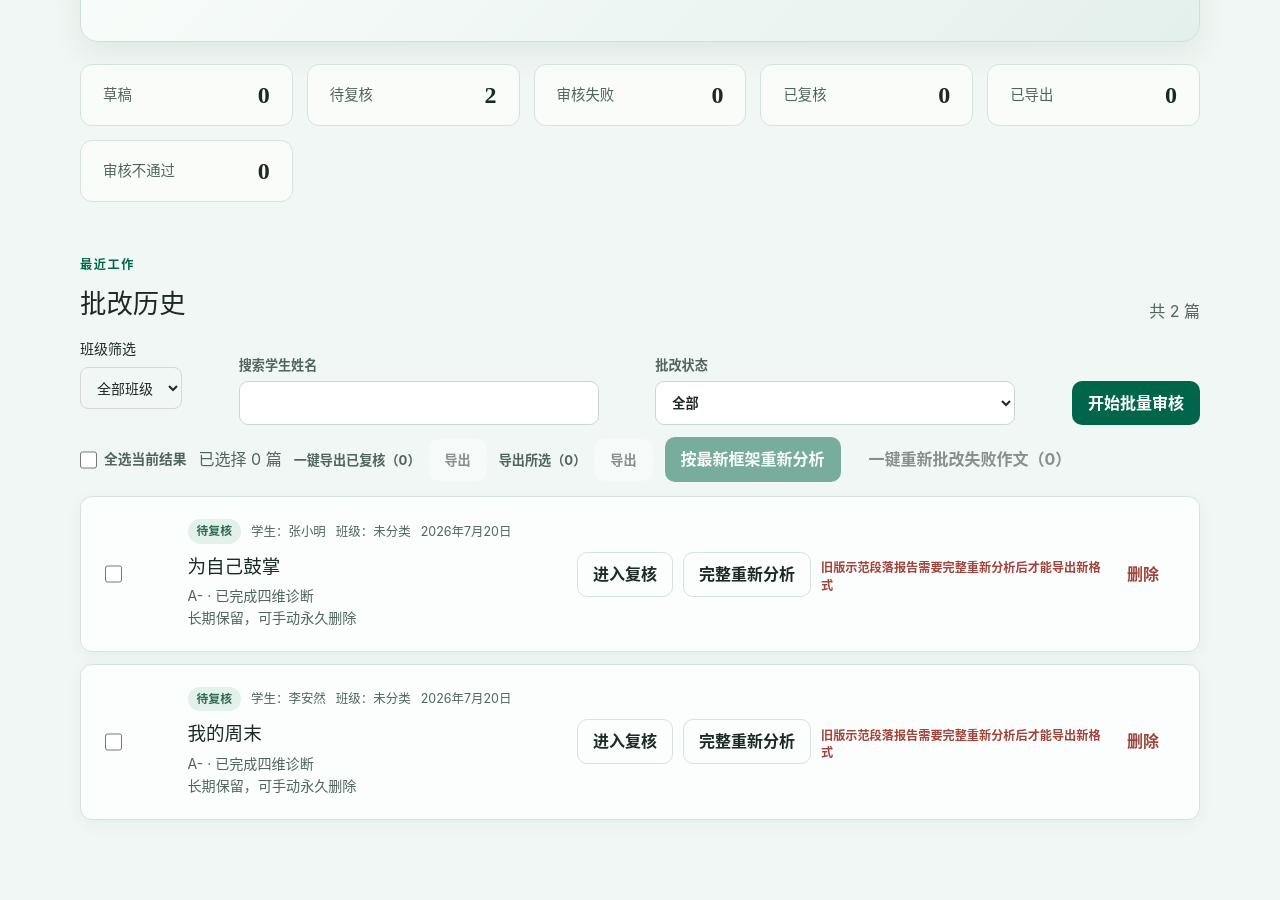
Test case: 历史首页 › 预览并按最新框架重新分析，成功项移除选择而跳过项保留
(page scrolled)
expect the heading "为自己鼓掌" is shown: met, box 188,555 -> 280,577
Click the checkbox named "选择《为自己鼓掌》" at [114, 574], box 105,552 -> 122,596
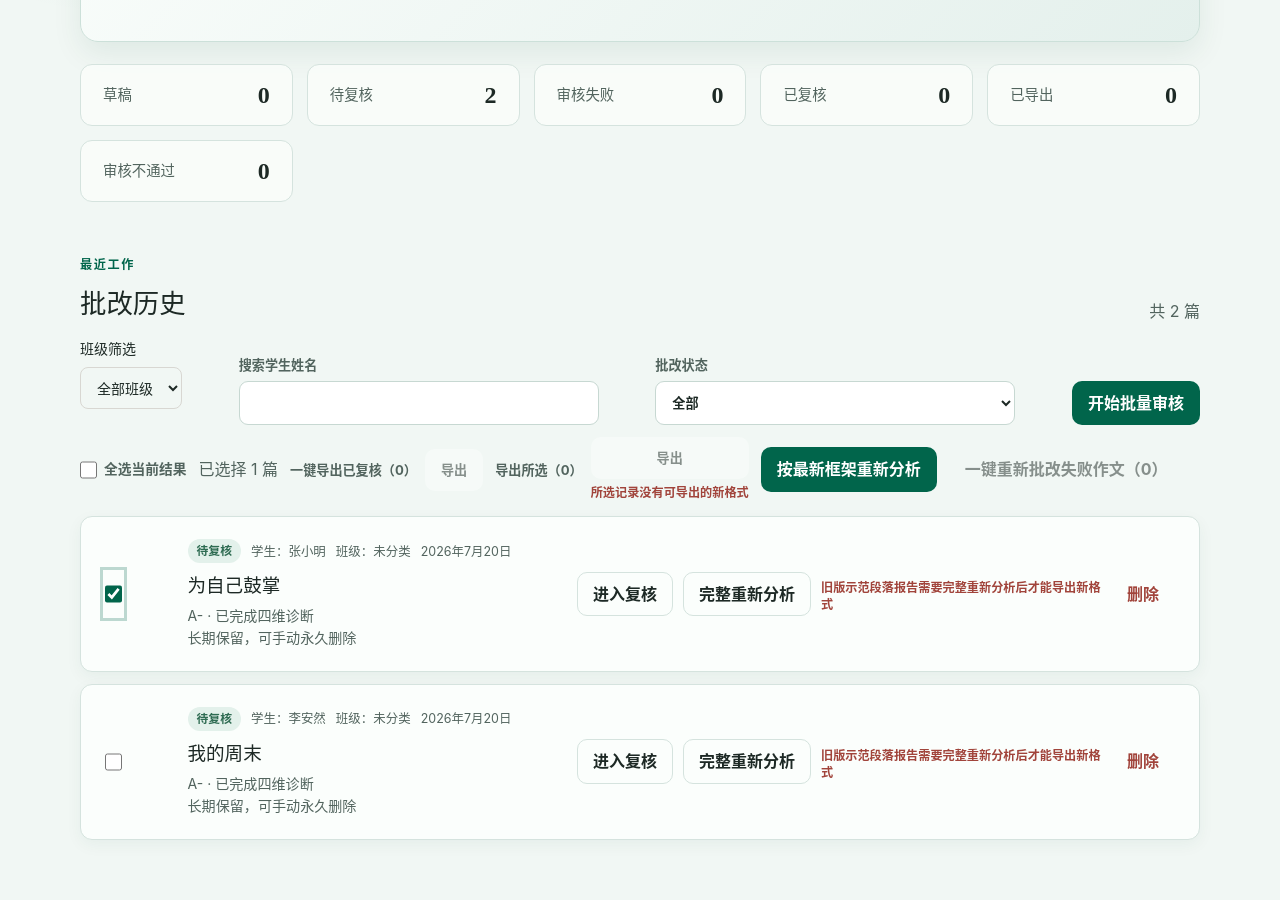
Click the checkbox named "选择《我的周末》" at [114, 762], box 105,740 -> 122,784
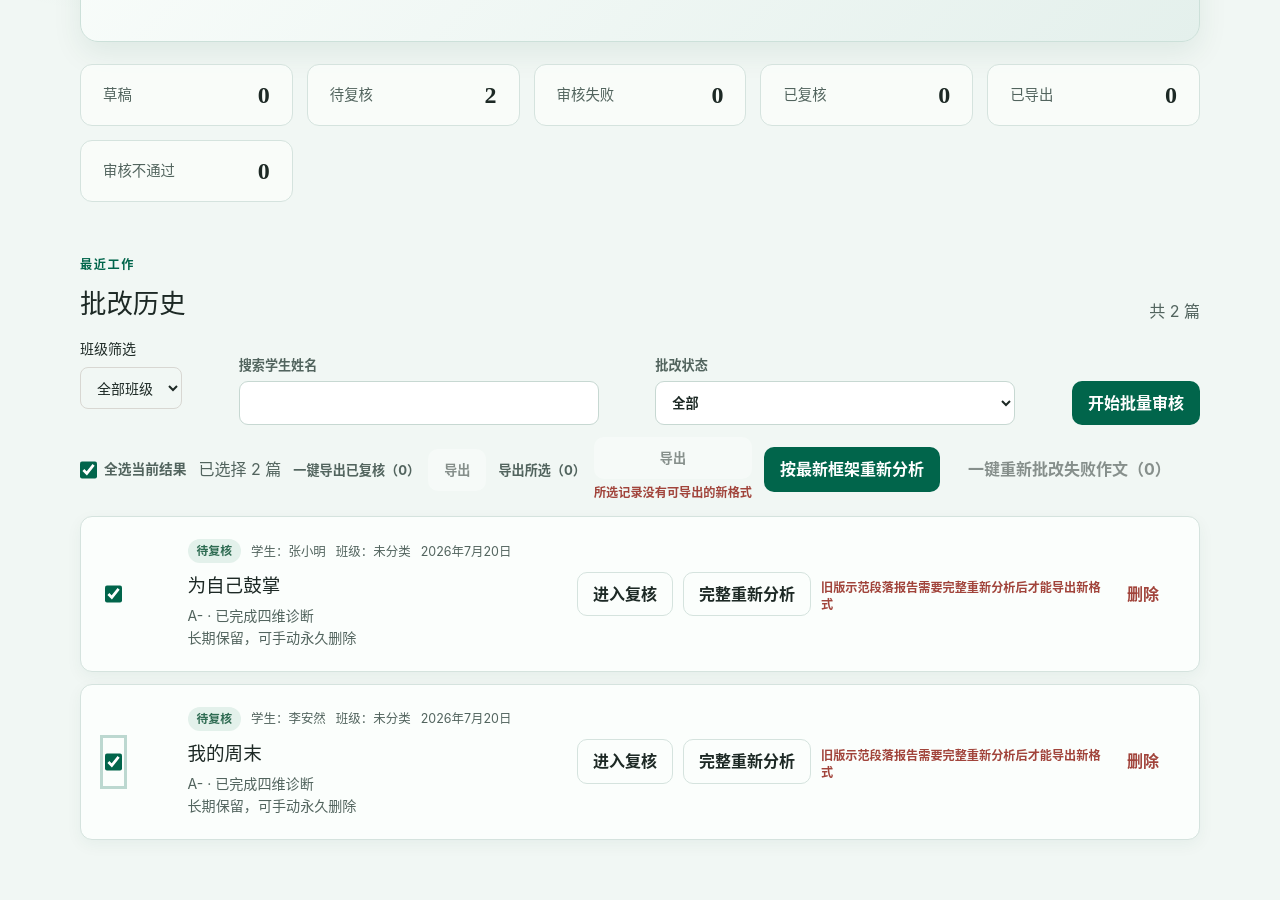
Click the button "按最新框架重新分析" at [852, 470], box 764,447 -> 940,492
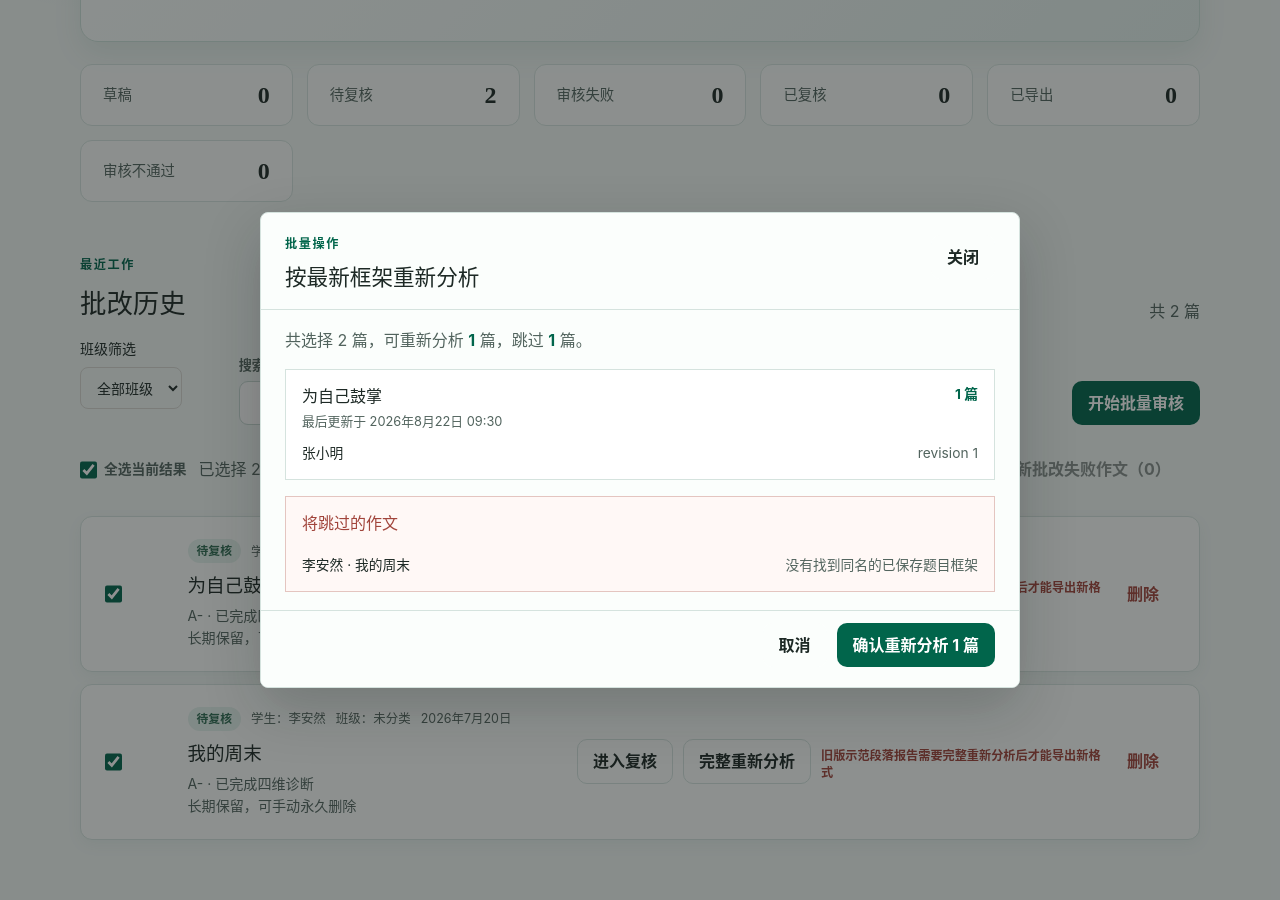
expect the heading "按最新框架重新分析" is shown: met, box 285,261 -> 479,295
expect the text "没有找到同名的已保存题目框架" is shown: met, box 786,555 -> 978,577
Click the button "确认重新分析 1 篇" at [916, 645], box 836,623 -> 995,668
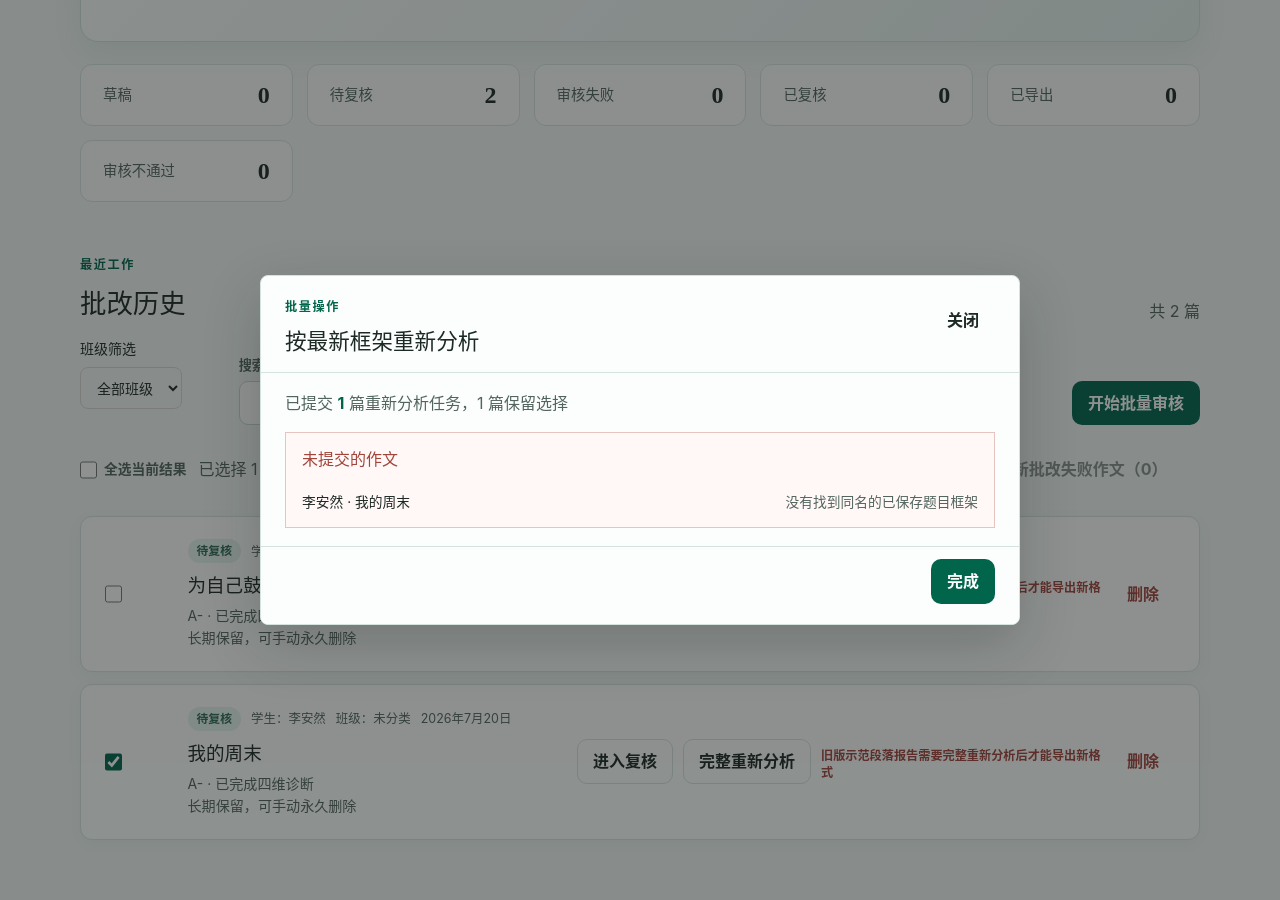
expect the element showing "已提交 1 篇重新分析任务，1 篇保留选择" is shown: met, box 285,393 -> 568,413
expect the text "已选择 1 篇" is shown: met, box 198,457 -> 278,482
